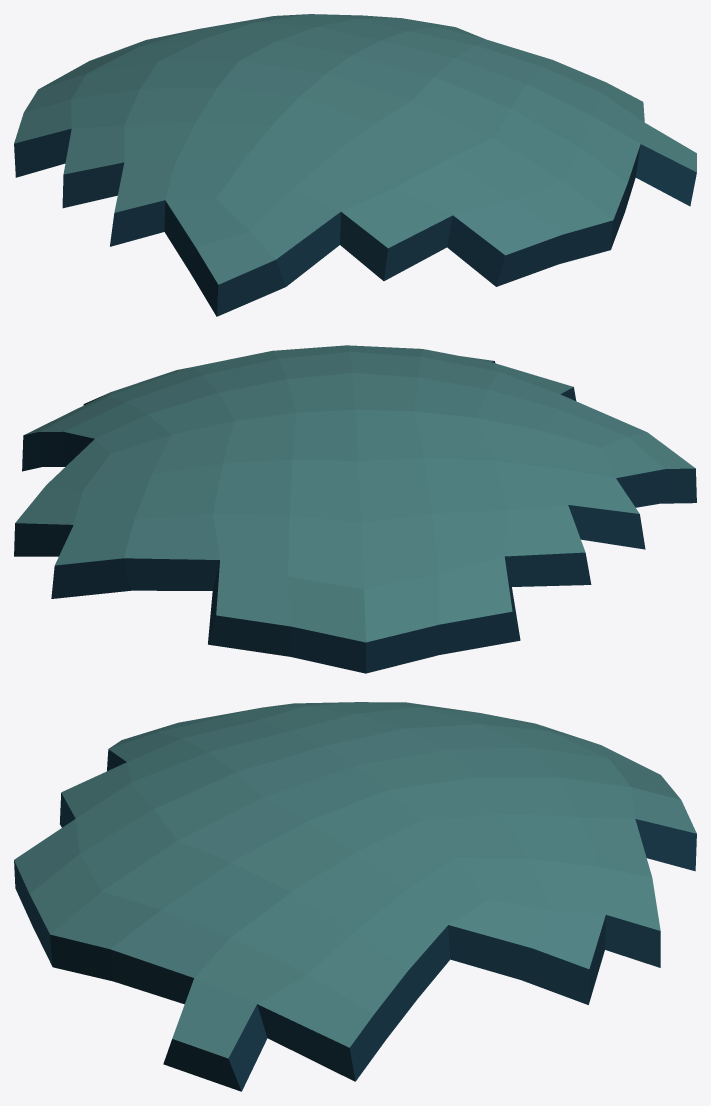
3 views of the same model, one above another, from view 1: azimuth 30°, elevation 25°; view 2: azimuth 150°, elevation 25°; view 3: azimuth 270°, elevation 25° (orthographic). The views are drawn at different scales.
Visible parts, largest first — view 1: Planet; view 2: Planet; view 3: Planet.
Part boxes in pixels (x1,y1,x2,y2): Planet: (14, 14, 696, 316); Planet: (14, 345, 696, 673); Planet: (14, 702, 696, 1091).
Bounding box in the file's own units: 10.58 × 2.6 × 10.17.
